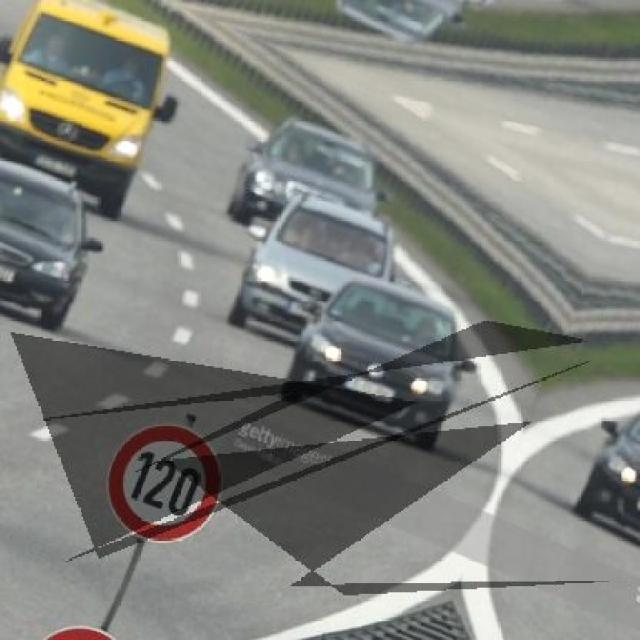forb_speed_over_120: (95, 409, 239, 560), (8, 612, 152, 640)
